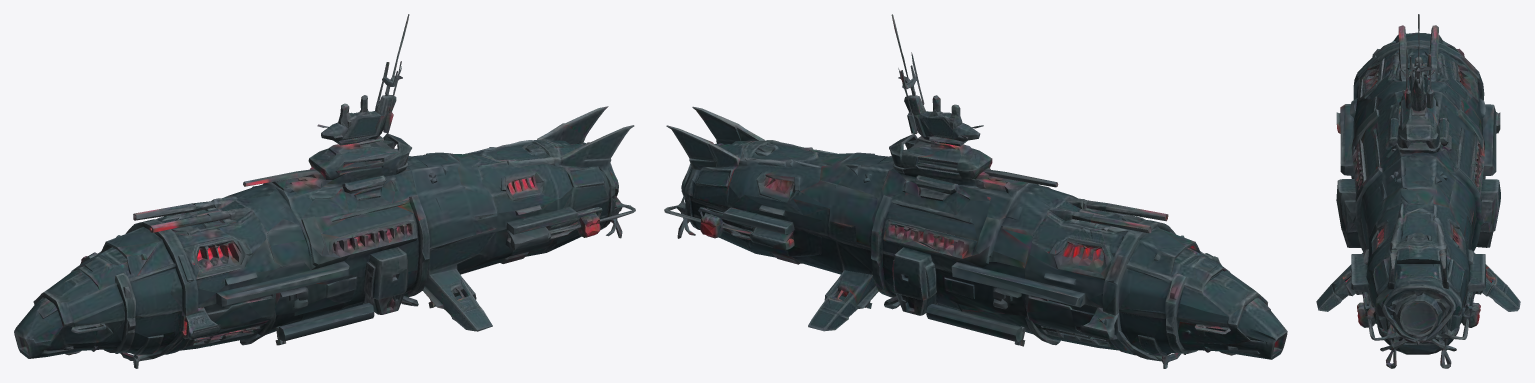
Rendered from boss-bellwether.glb.
3 renders of one model, left to right at view 1: azimuth 30°, elevation 25°; view 2: azimuth 150°, elevation 25°; view 3: azimuth 270°, elevation 25°, orthographic.
Bounding box in the file's own units: 1.9 × 0.8582 × 0.5655.
Materials: 1 (1 with a texture image).
